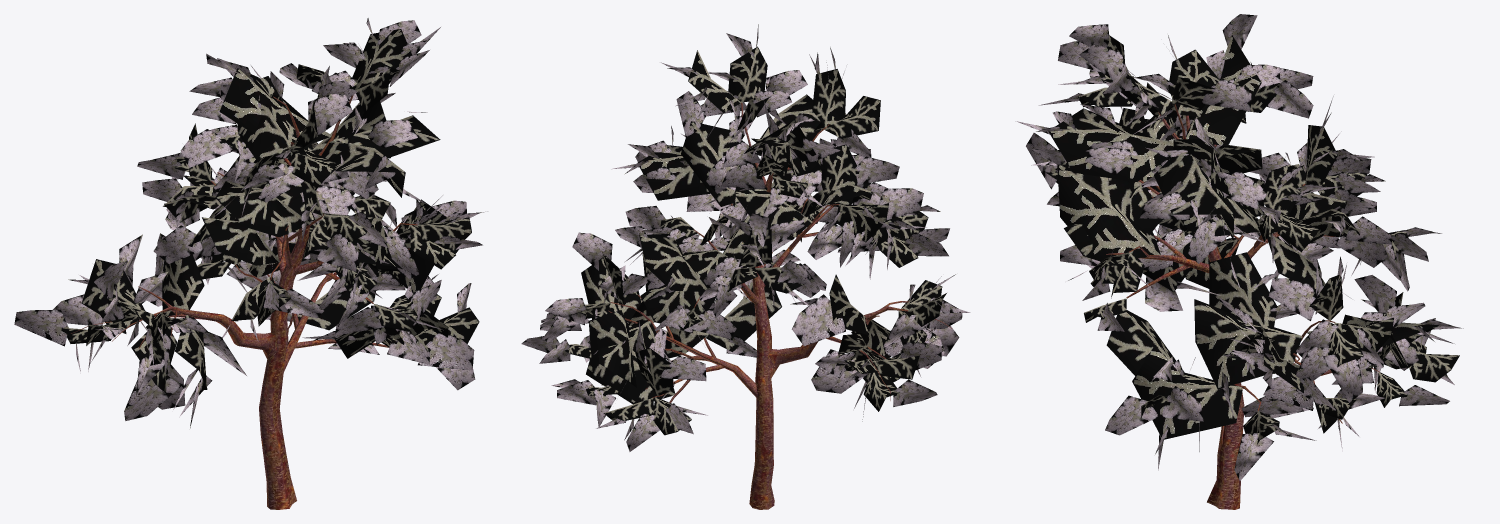
The model's file is pal_b00_tree_cherry_M_B_b3366a.glb.
The picture shows the model from 3 angles, left to right: view 1: azimuth 30°, elevation 25°; view 2: azimuth 150°, elevation 25°; view 3: azimuth 270°, elevation 25°; orthographic projection. The views are drawn at different scales.
Size of the model in its own units: 6.15 by 6.69 by 5.83.
2 materials, 2 textured.
